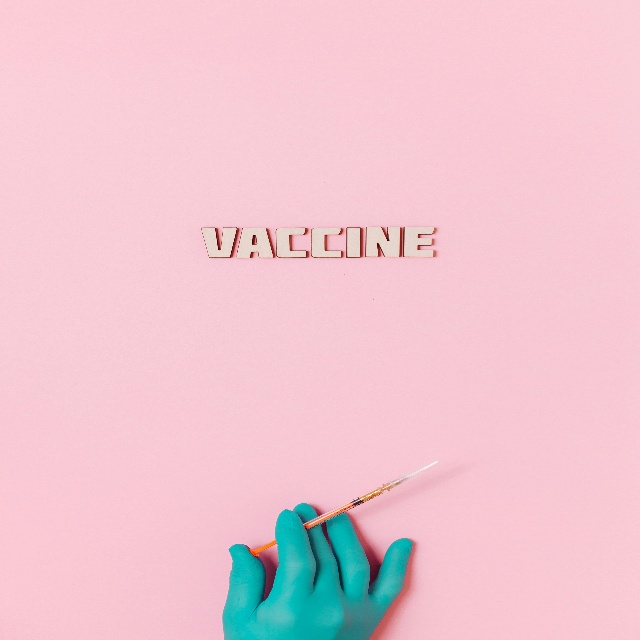Guantes: (222, 503, 413, 640)
